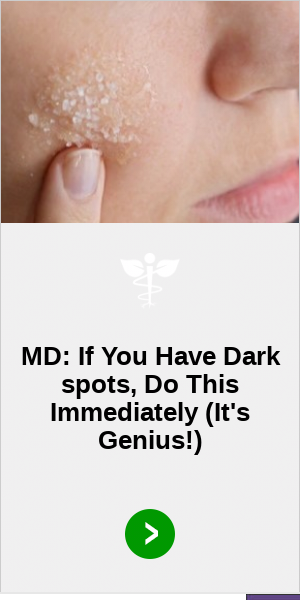fake_button: (98, 483, 201, 578)
